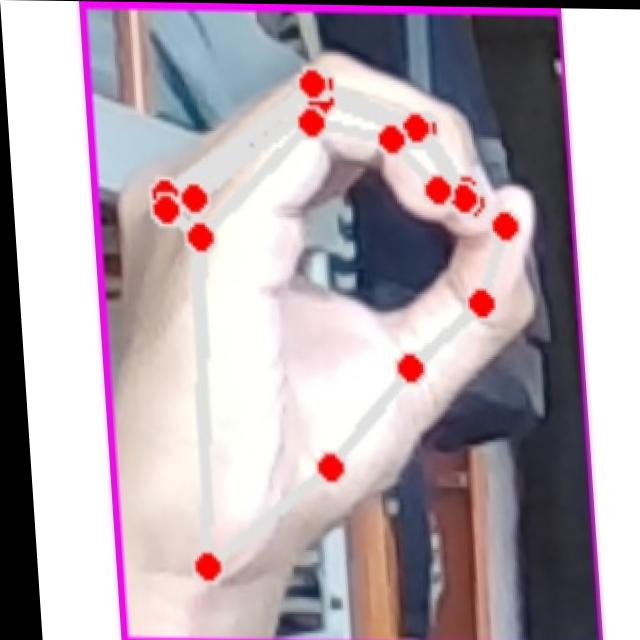O: (98, 37, 568, 607)
